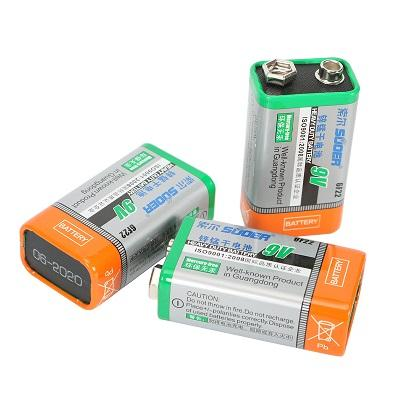9V Battery: (149, 217, 365, 356), (241, 56, 361, 238)
